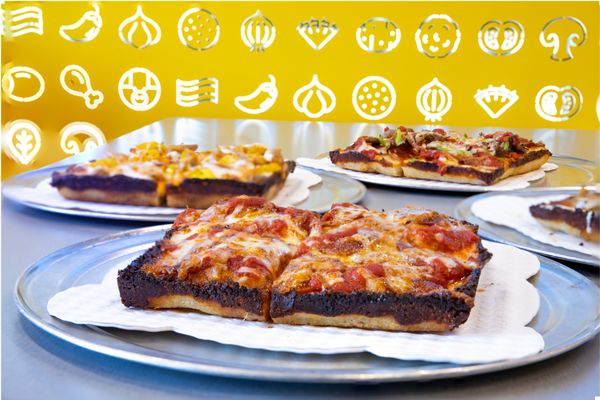sandwich: (267, 200, 491, 332), (47, 140, 290, 208), (328, 123, 552, 185)
